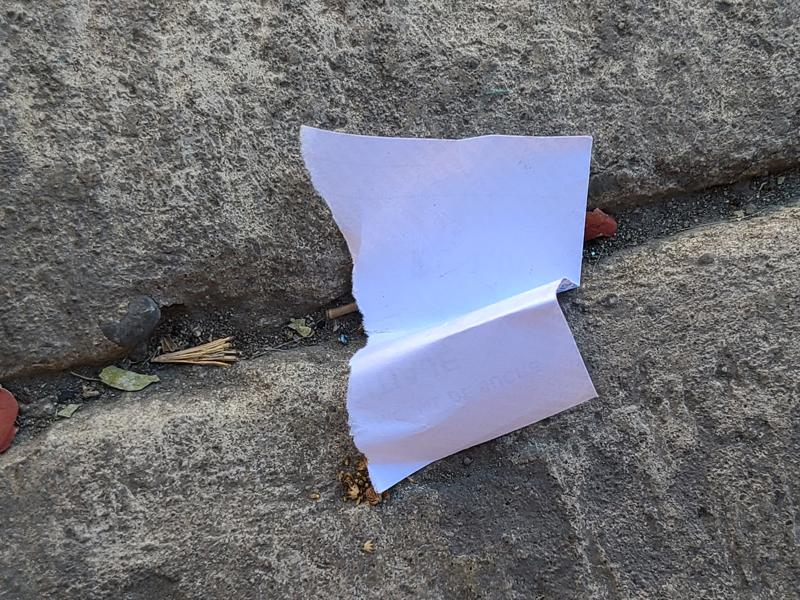papel: (298, 128, 598, 494)
